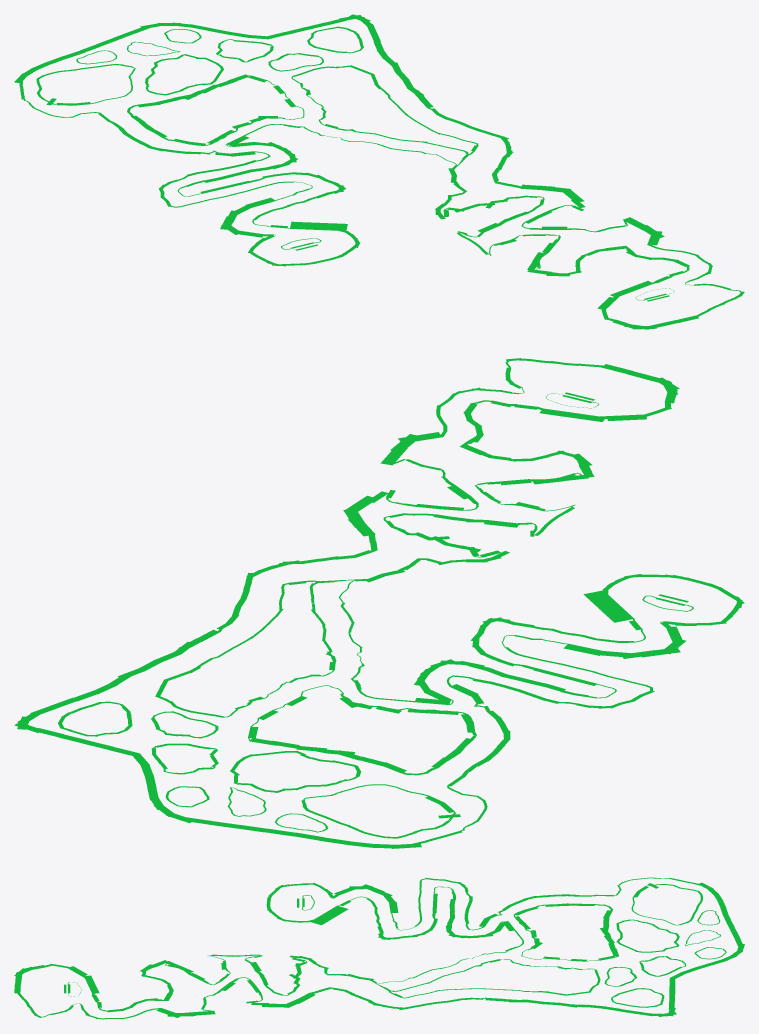
Rendered from collission.obj.
3 renders of one model, top to bottom at view 1: azimuth 30°, elevation 25°; view 2: azimuth 150°, elevation 25°; view 3: azimuth 270°, elevation 25°, orthographic. The views are drawn at different scales.
Visible parts, largest first — view 1: no part large enough to name; view 2: no part large enough to name; view 3: finish.544.
Boxes of the visible parts, bbox=[...] form: finish.544: bbox=[310, 905, 348, 925].
Size of the model in its own units: 37.77 by 0 by 82.12.
